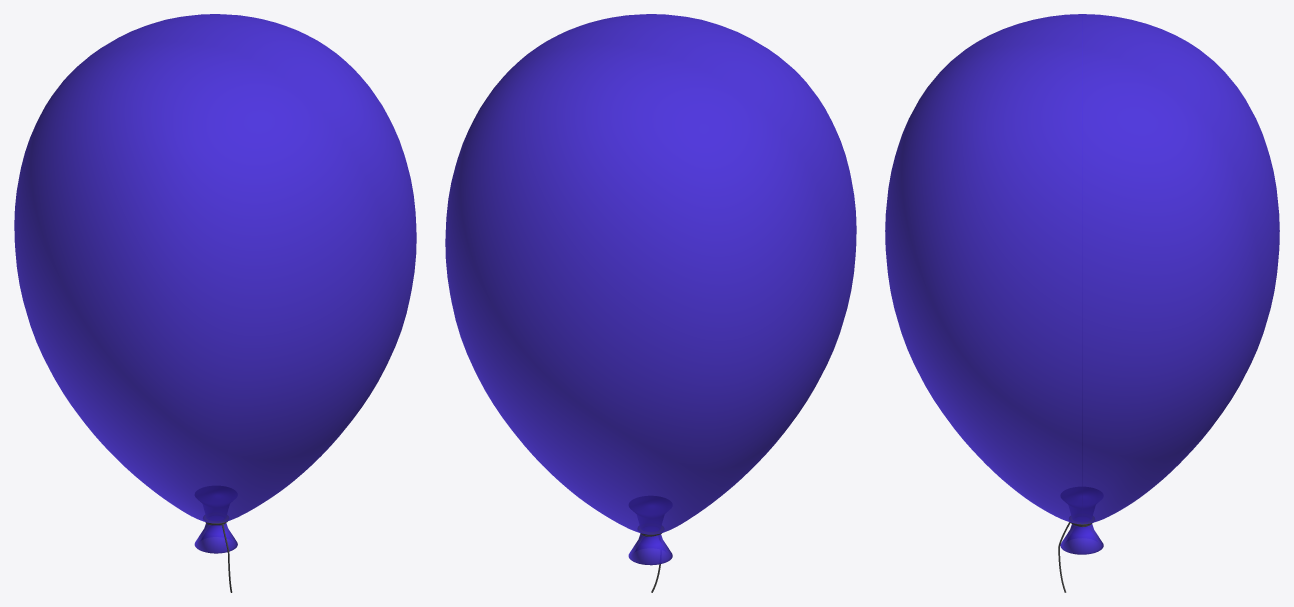
Rendered from ballon_bleu.glb.
3 renders of one model, left to right at view 1: azimuth 30°, elevation 25°; view 2: azimuth 150°, elevation 25°; view 3: azimuth 270°, elevation 25°, orthographic. The views are drawn at different scales.
Parts seen in each view (by area): view 1: Cube.003, Cylinder.006; view 2: Cube.003, Cylinder.006; view 3: Cube.003, Cylinder.006.
Part boxes in pixels (box(x1,y1,x2,y2)): Cube.003: box(14, 14, 416, 523); Cylinder.006: box(194, 486, 237, 553); Cube.003: box(445, 14, 856, 534); Cylinder.006: box(628, 496, 672, 565); Cube.003: box(885, 14, 1279, 524); Cylinder.006: box(1060, 487, 1103, 554).
Size of the model in its own units: 71.29 by 110 by 71.29.
